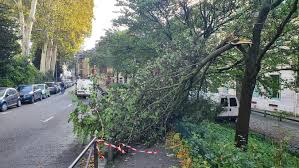obstacle: (78, 36, 227, 151)
